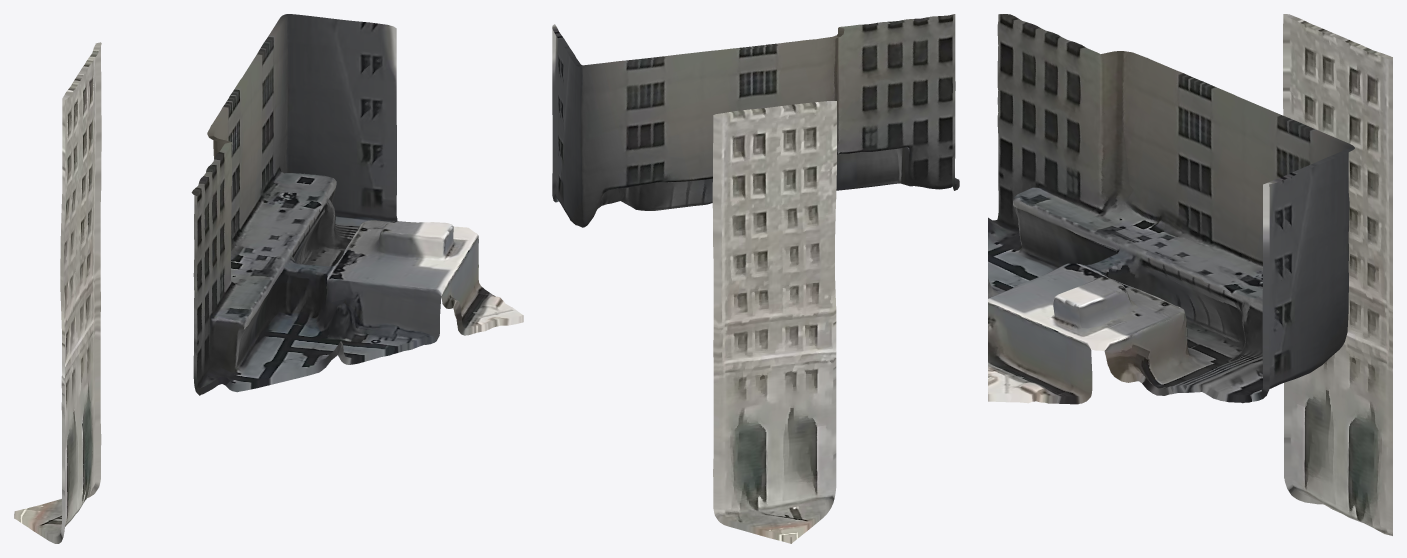
Rendered from z20-167781-405232-h0-yup-uvflip-v3-world.glb.
3 renders of one model, left to right at view 1: azimuth 30°, elevation 25°; view 2: azimuth 150°, elevation 25°; view 3: azimuth 270°, elevation 25°, orthographic. The views are drawn at different scales.
Bounding box in the file's own units: 30.2 × 40.72 × 30.32.
Materials: 1 (1 with a texture image).
